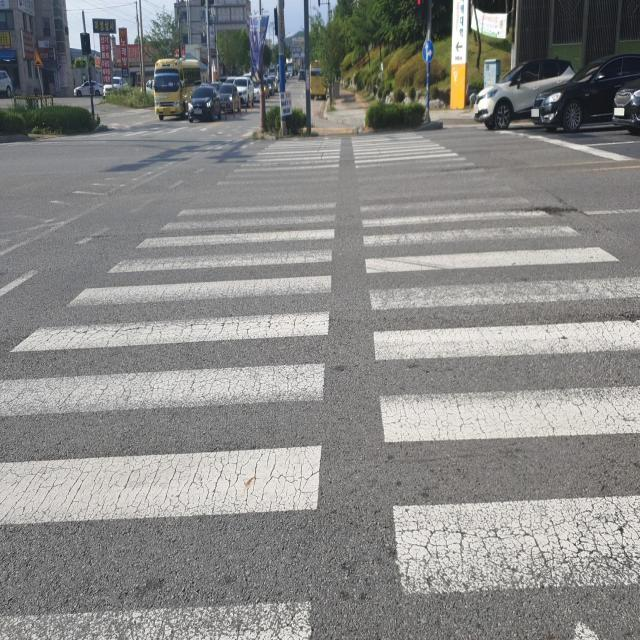빨간불: (415, 0, 422, 24)
횡단보도: (0, 121, 639, 640)
